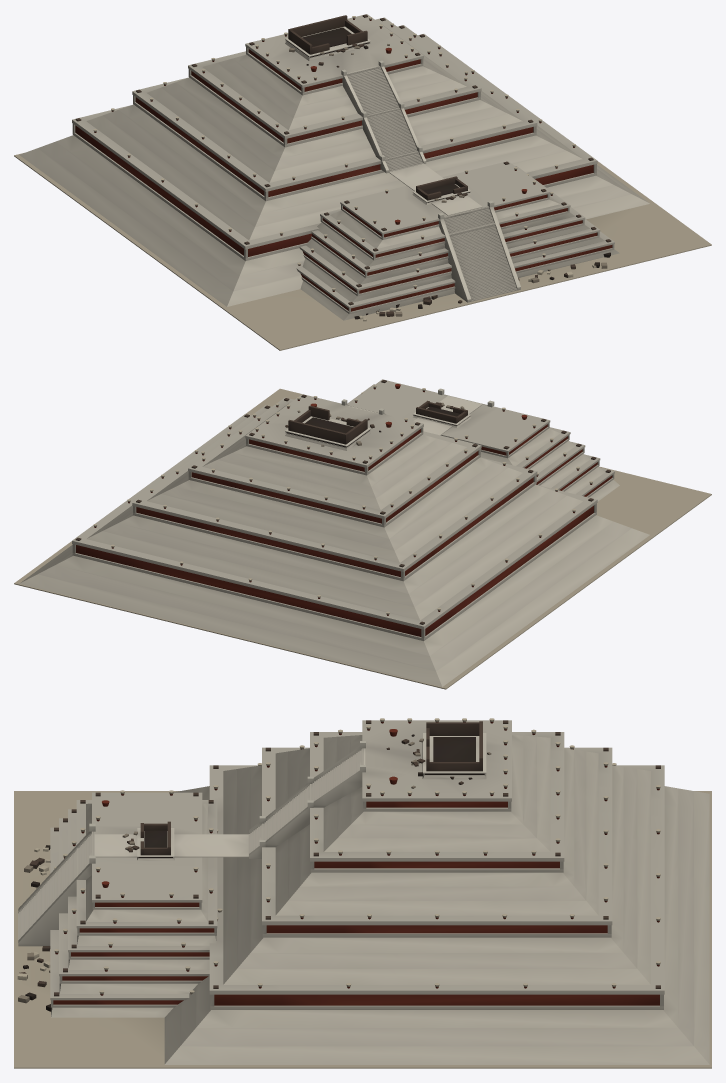
File: pyramid-of-the-moon-650.glb
The picture shows the model from 3 angles, top to bottom: view 1: azimuth 30°, elevation 25°; view 2: azimuth 150°, elevation 25°; view 3: azimuth 270°, elevation 25°; orthographic projection. The views are drawn at different scales.
Visible parts, largest first — view 1: p1_pyramid, p2_temple, p0_ground; view 2: p1_pyramid, p0_ground, p2_temple; view 3: p1_pyramid, p2_temple, p0_ground.
Part boxes in pixels (x1=…): p1_pyramid: x1=19, y1=14, x2=649, y2=320; p2_temple: x1=75, y1=14, x2=611, y2=321; p0_ground: x1=14, y1=152, x2=711, y2=350; p1_pyramid: x1=19, y1=379, x2=649, y2=686; p0_ground: x1=14, y1=388, x2=711, y2=689; p2_temple: x1=75, y1=379, x2=610, y2=624; p1_pyramid: x1=50, y1=720, x2=709, y2=1064; p2_temple: x1=17, y1=718, x2=660, y2=1011; p0_ground: x1=14, y1=791, x2=711, y2=1068.
Bounding box in the file's own units: 150 × 48.22 × 160.
